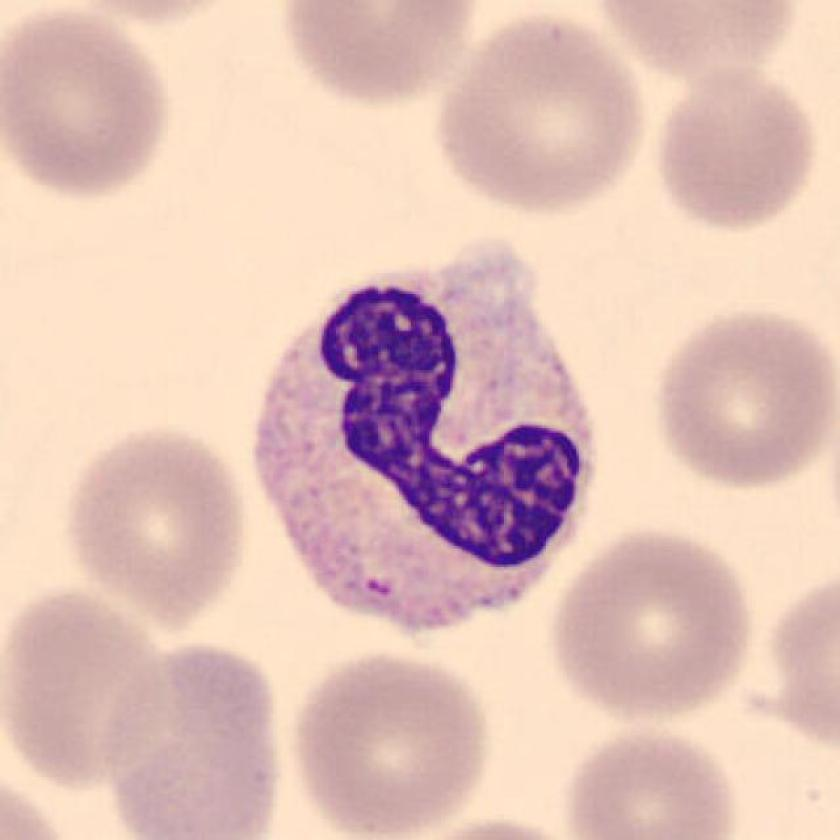neutrophil: (257, 244, 597, 631)
